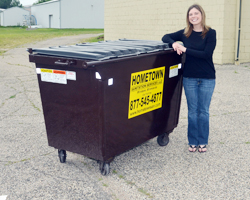Dumpster: (24, 36, 191, 178)
Person: (161, 3, 223, 157)
